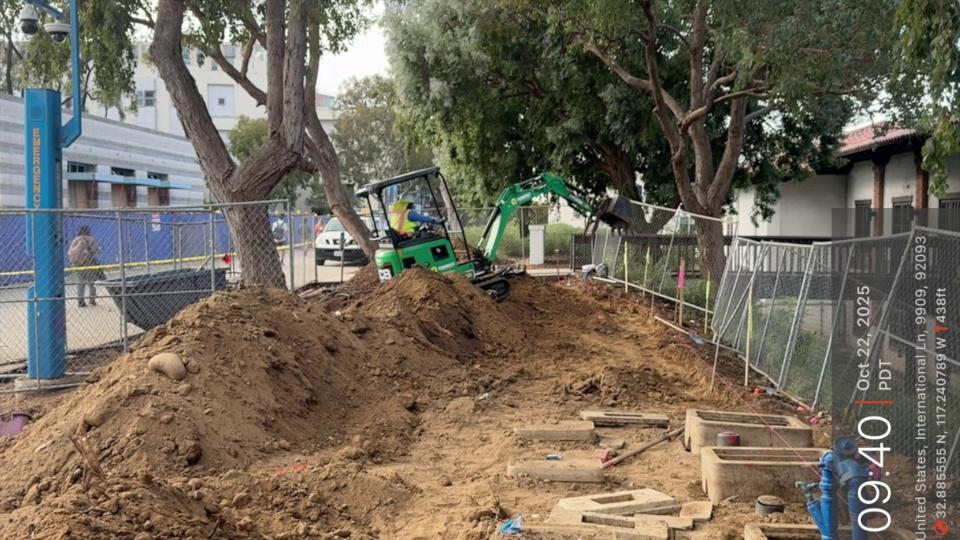Exacavator: (352, 165, 633, 303)
